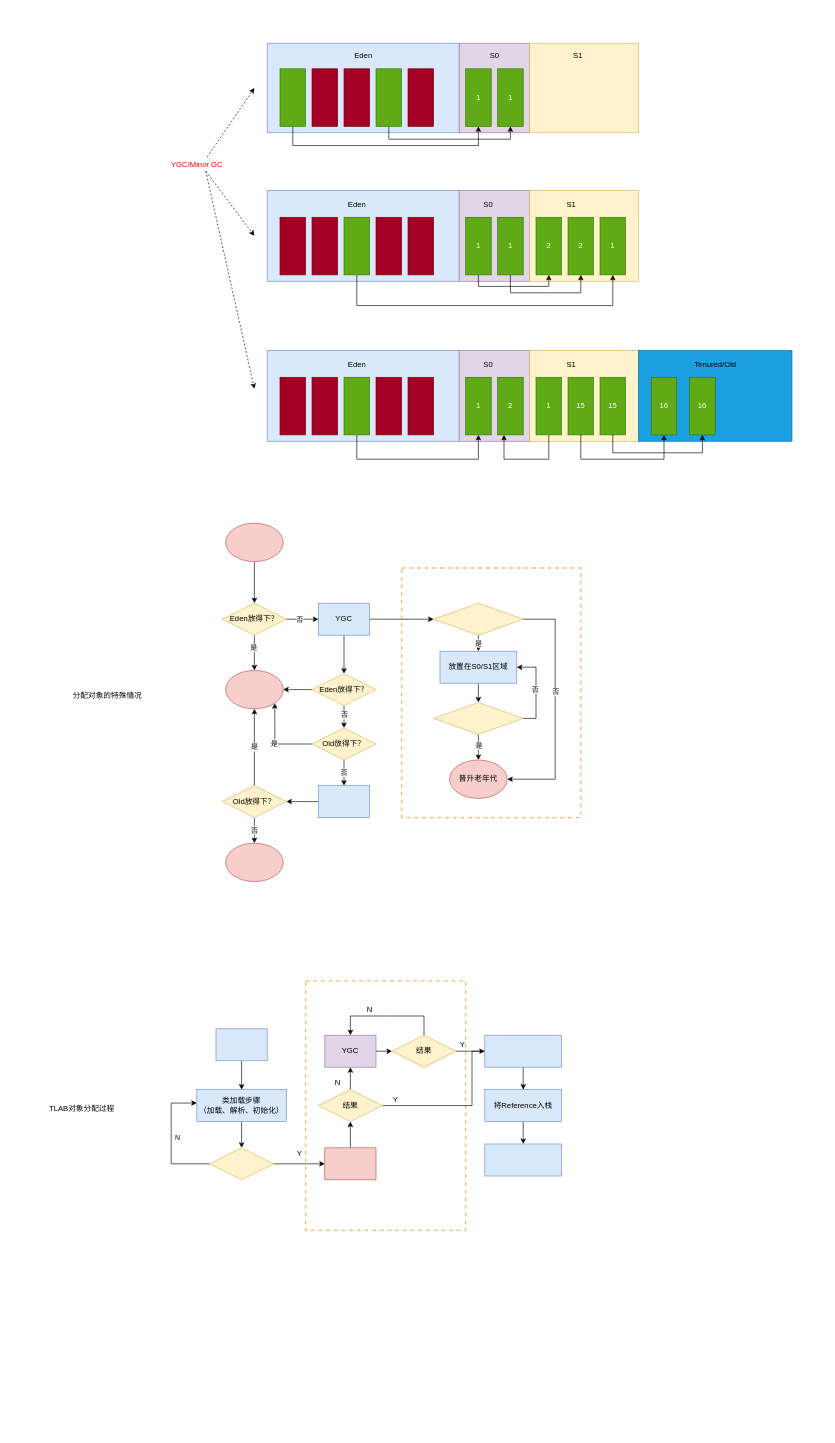
The diagram is 835 pixels wide and 1443 high, and some of its shapes have lost their labels. The shapes that lost their labels are listed below. From the top down, each one's centre as x and y in pixels, then its label:
the point at 254,542: 新对象申请
the point at 478,619: Survivor区放得下？
the point at 254,689: 分配对象内存
the point at 478,718: 对象存活超过阈值
the point at 344,801: FGC
the point at 254,862: OOM
the point at 241,1044: Byte Code
the point at 523,1051: 对象实例化
the point at 241,1163: 检查是否加载
the point at 350,1163: TLAB分配
the point at 523,1159: 更新PC计数器
